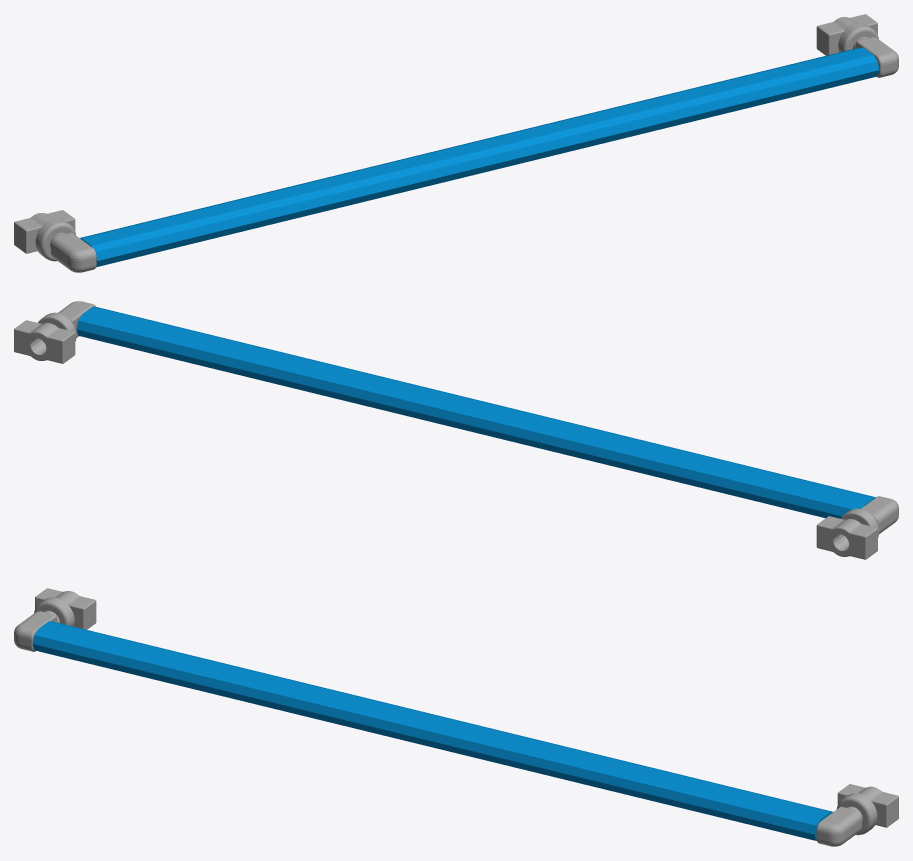
File: handrail_30.dae
3 renders of one model, top to bottom at view 1: azimuth 30°, elevation 25°; view 2: azimuth 150°, elevation 25°; view 3: azimuth 330°, elevation 25°, orthographic.
Parts seen in each view (by area): view 1: node; view 2: node; view 3: node.
Boxes of the visible parts, left/top/right/bottom form: node: left=14, top=14, right=898, bottom=272; node: left=14, top=301, right=898, bottom=559; node: left=14, top=588, right=898, bottom=846.
Size of the model in its own units: 0.7834 by 0.0331 by 0.0782.
